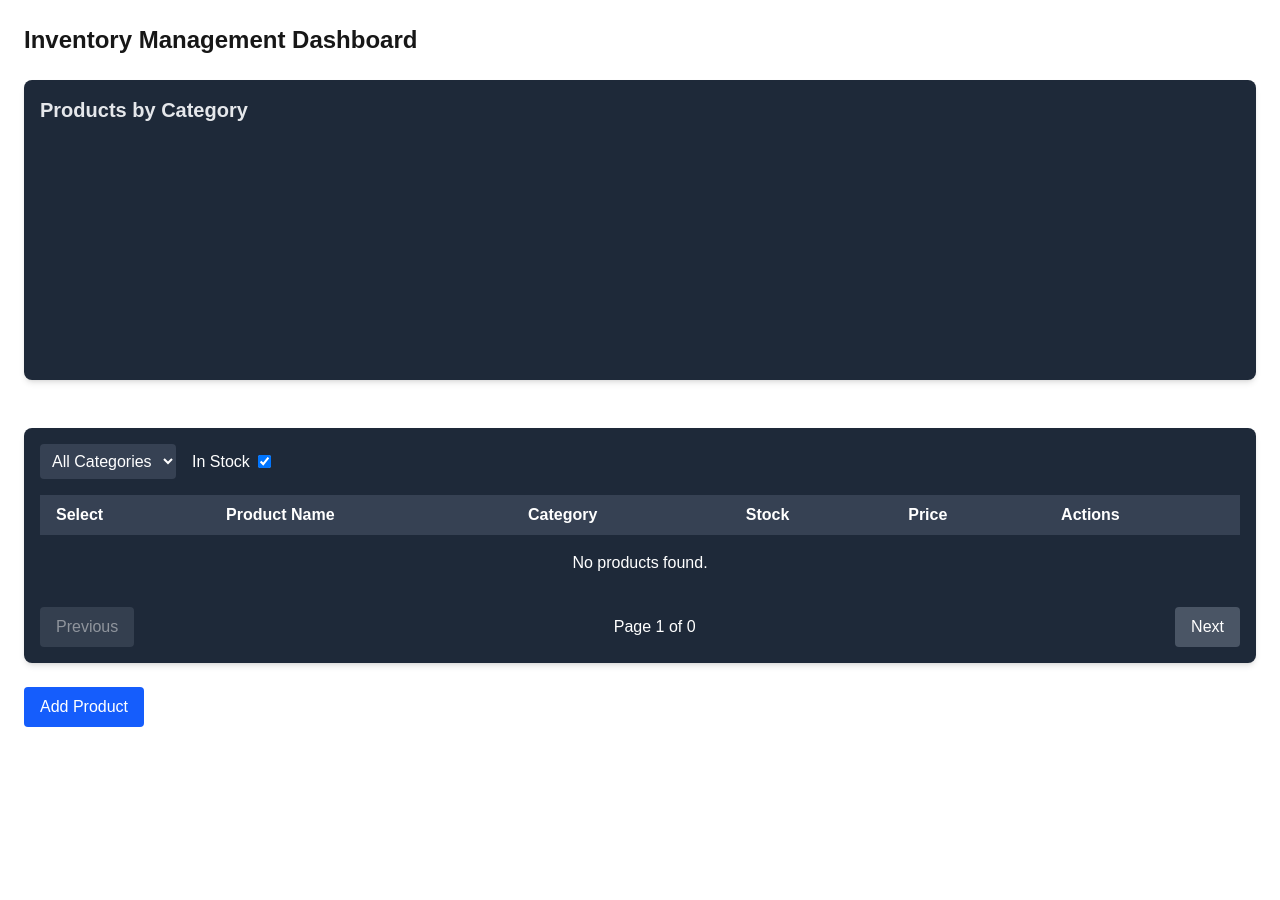
Test: DashboardPage › opens product modal when add product button is clicked
Step 1. Click the button "Add Product" → (84, 707), box [24,687,144,727]
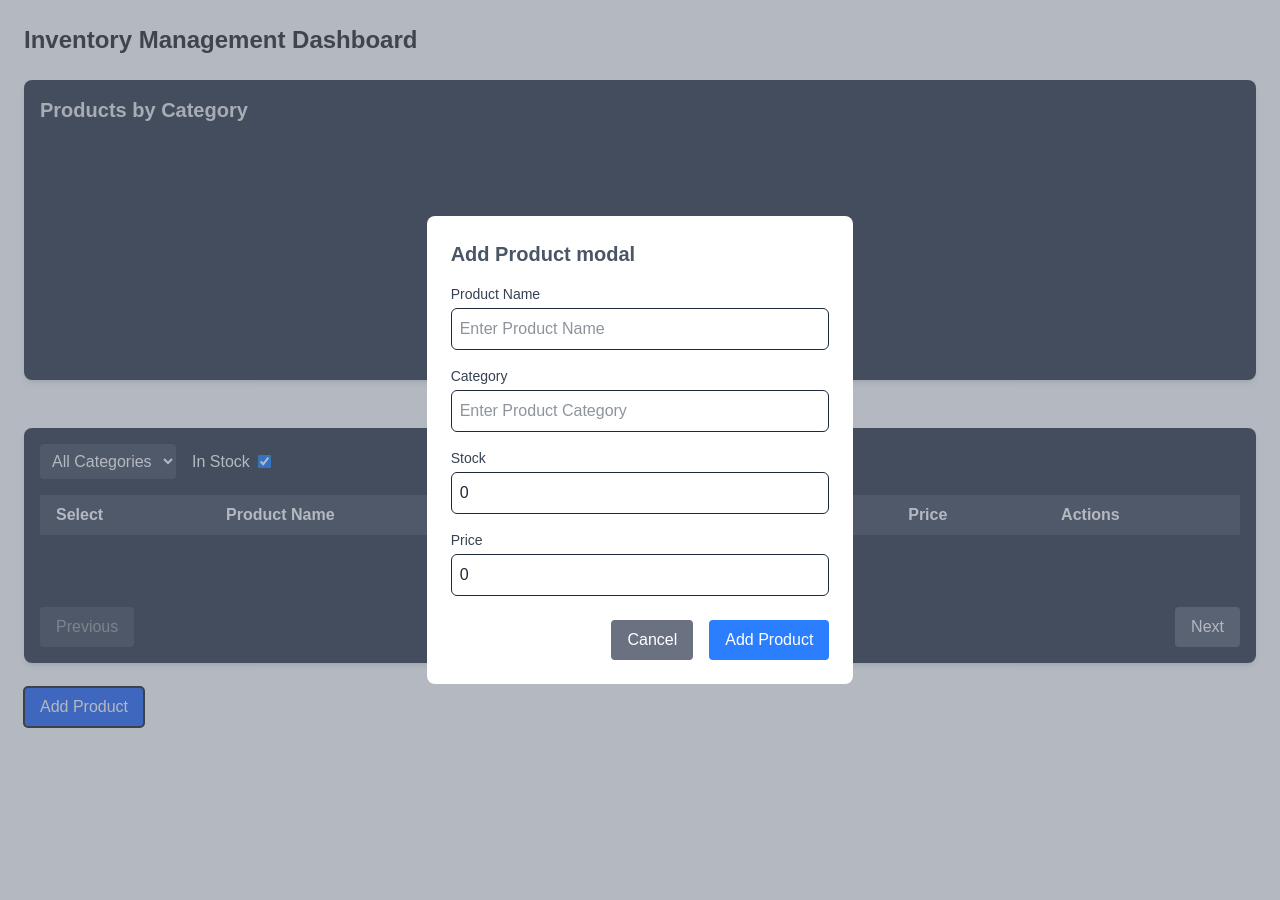
expect the heading "Add Product modal" is shown: met, box [451,243,635,265]
